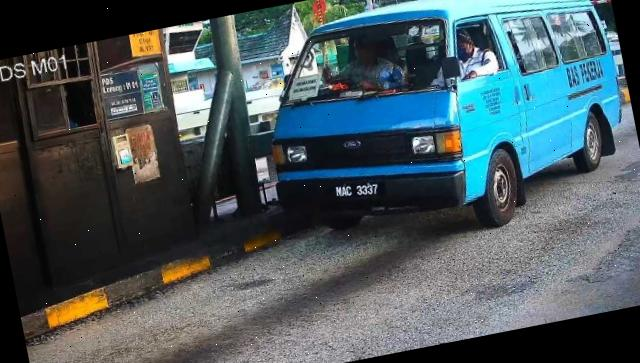License_Plate: (330, 173, 384, 207)
van: (248, 1, 640, 267)
